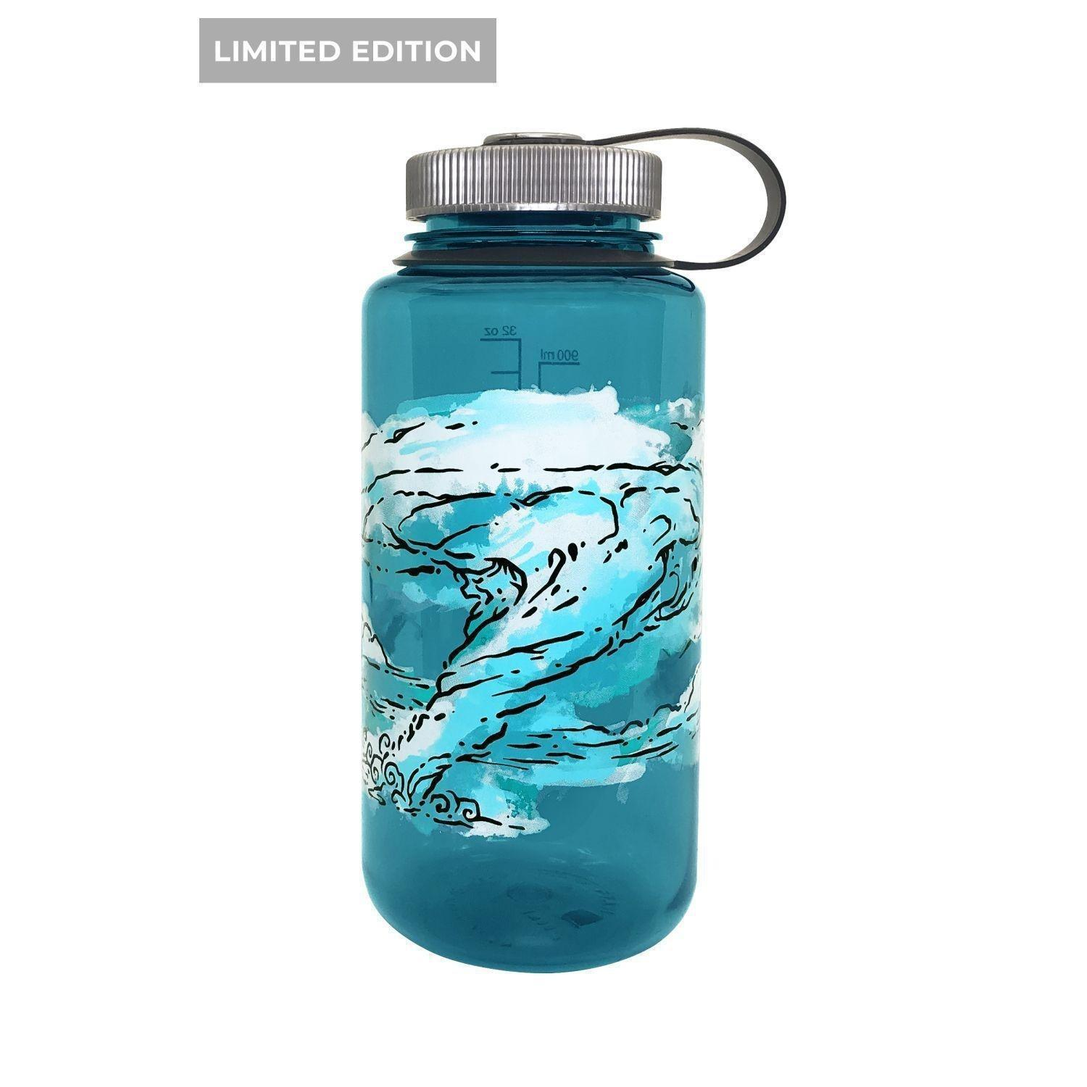gym bottle: (351, 125, 754, 975)
